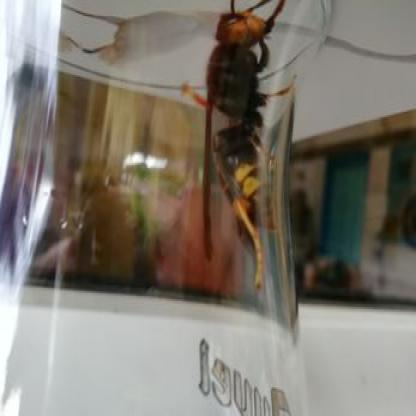Asian Hornet: (191, 0, 286, 282)
